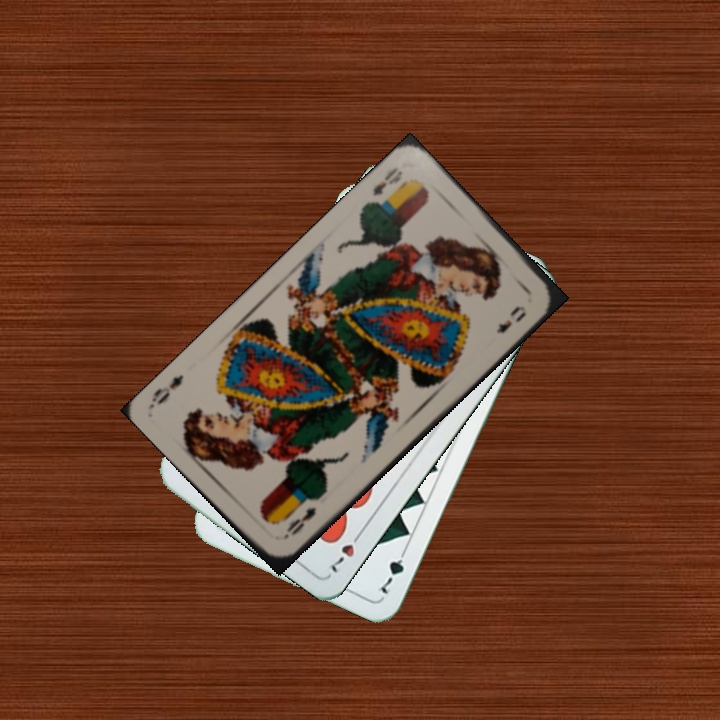EO: (362, 162, 406, 208), (279, 502, 319, 542)
G7: (373, 543, 410, 597)
H7: (323, 525, 366, 576)
